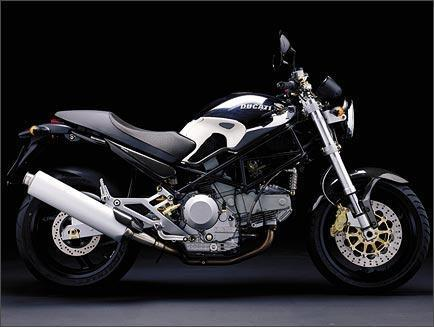motorcycle: (8, 21, 434, 301)
